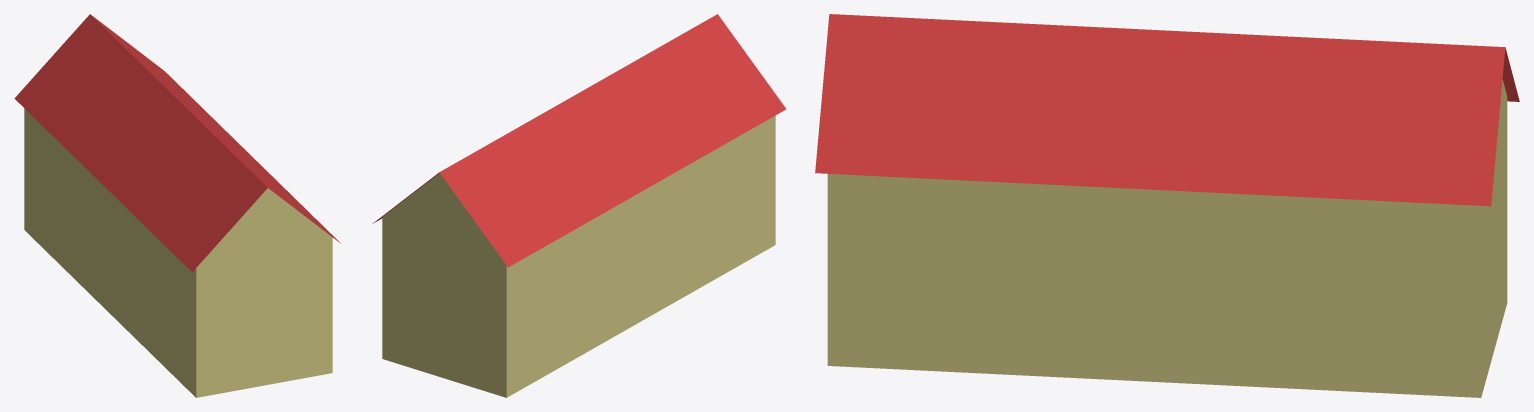
3 renders of one model, left to right at view 1: azimuth 30°, elevation 25°; view 2: azimuth 150°, elevation 25°; view 3: azimuth 270°, elevation 25°, orthographic. The views are drawn at different scales.
Size of the model in its own units: 14.32 by 31.02 by 14.78.
